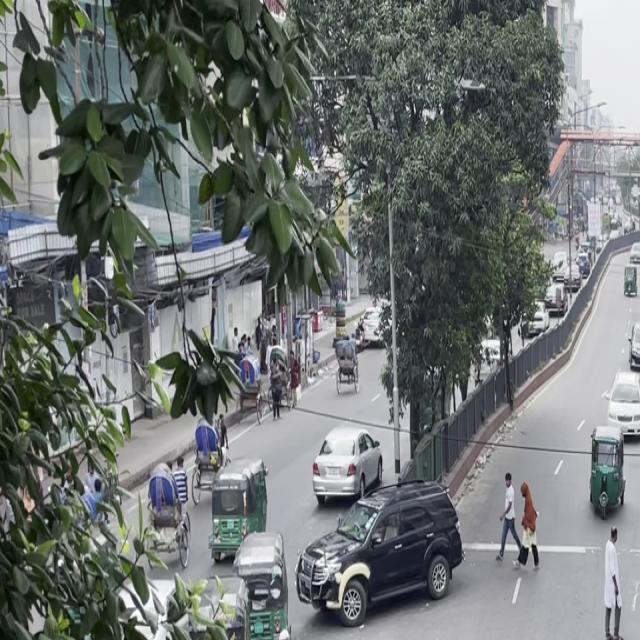car: (294, 475, 466, 633), (306, 417, 382, 514), (608, 366, 640, 445), (628, 316, 640, 378)
rickshaw: (226, 529, 297, 640), (203, 461, 269, 568), (586, 420, 630, 521)
